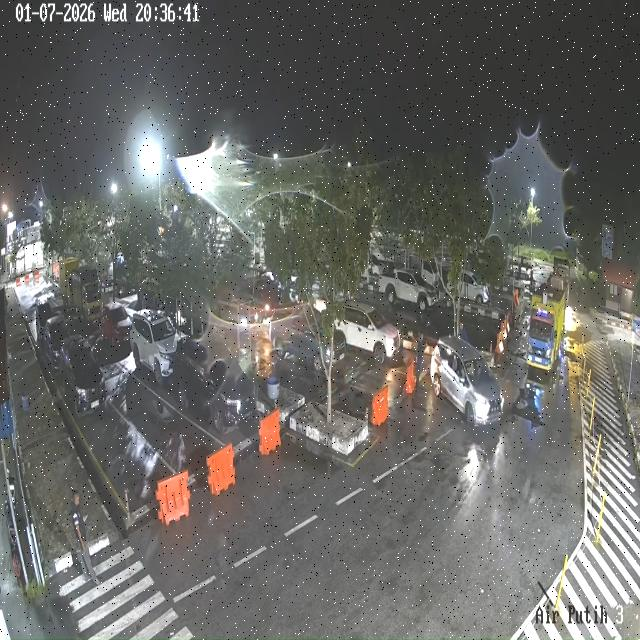Golongan IVA: (174, 337, 256, 432), (430, 336, 504, 425), (273, 313, 346, 374), (336, 301, 402, 364), (59, 335, 106, 417), (130, 309, 178, 385), (42, 315, 70, 370), (100, 301, 132, 348), (35, 301, 54, 344)
Golongan IVB: (378, 270, 438, 311)
Golongan VB: (527, 276, 568, 372), (58, 258, 103, 322)
